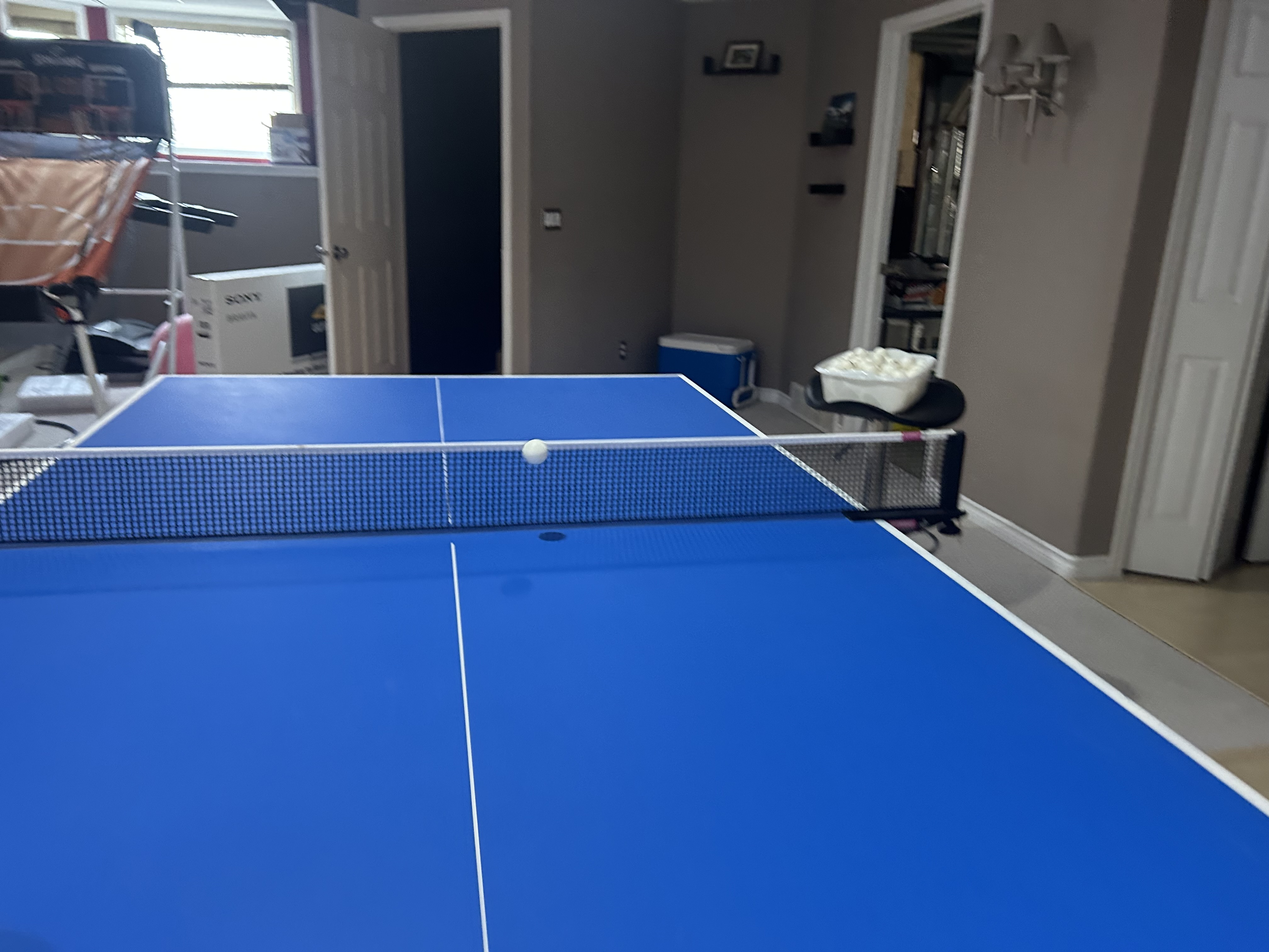Ball: (524, 434, 552, 467)
